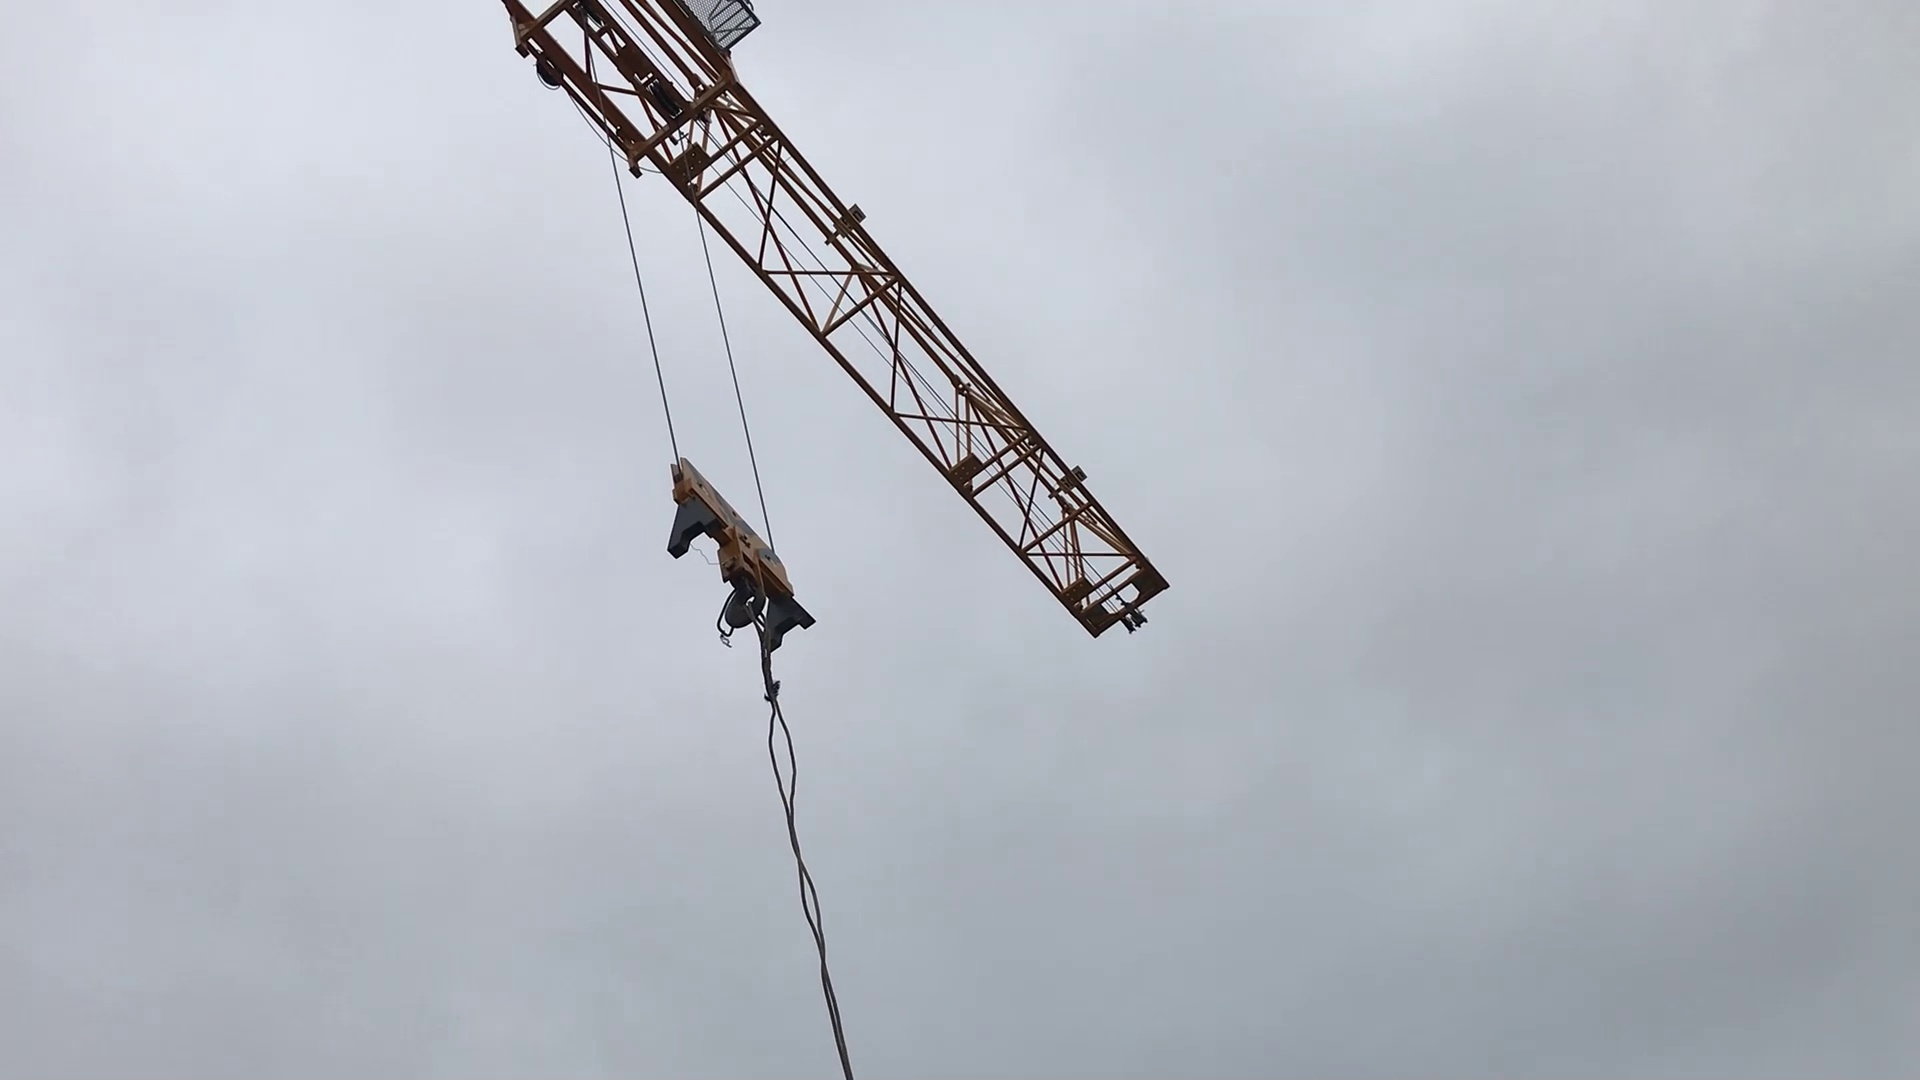hook: (636, 431, 855, 709)
